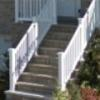stairs: (5, 23, 99, 100)
